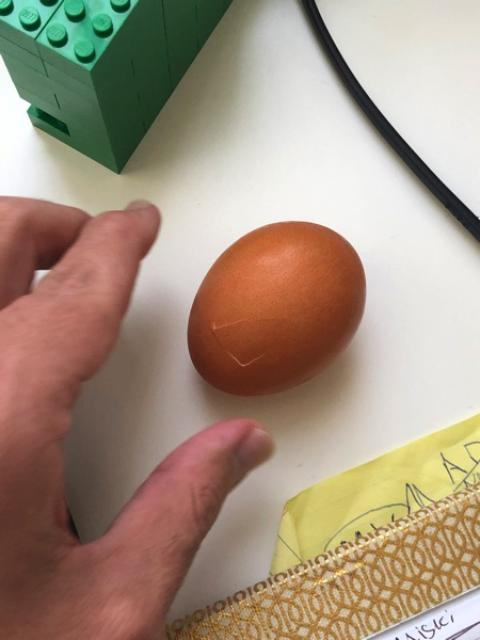Roto: (186, 219, 367, 397)
